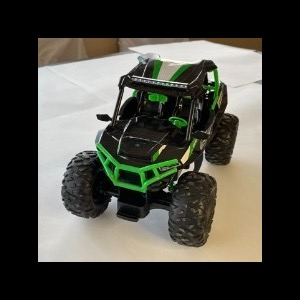polaris: (61, 53, 241, 250)
